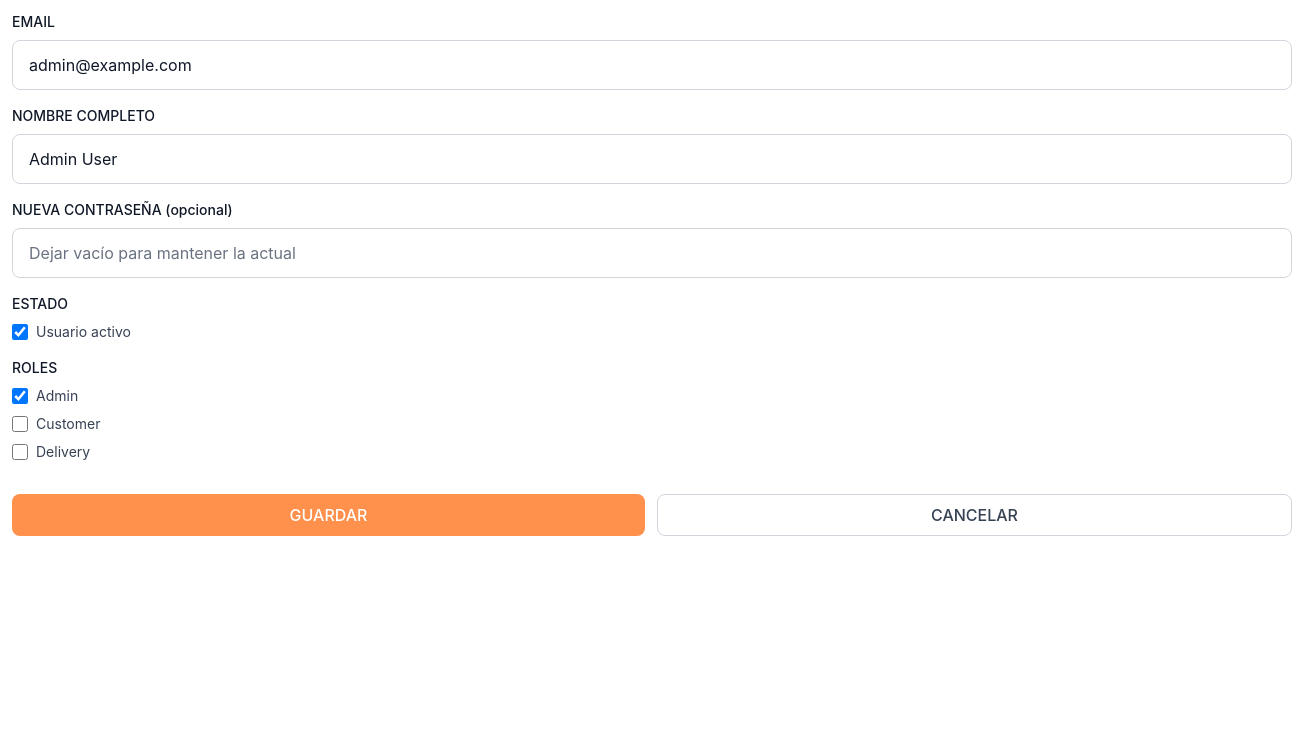
Scenario: EditUserForm › Form Validation › should show validation error for short password
The image size is (1304, 732).
In the password field with placeholder "Dejar vacío para mantener la actual": x=652, y=253 [12,228,1292,278], type "123"
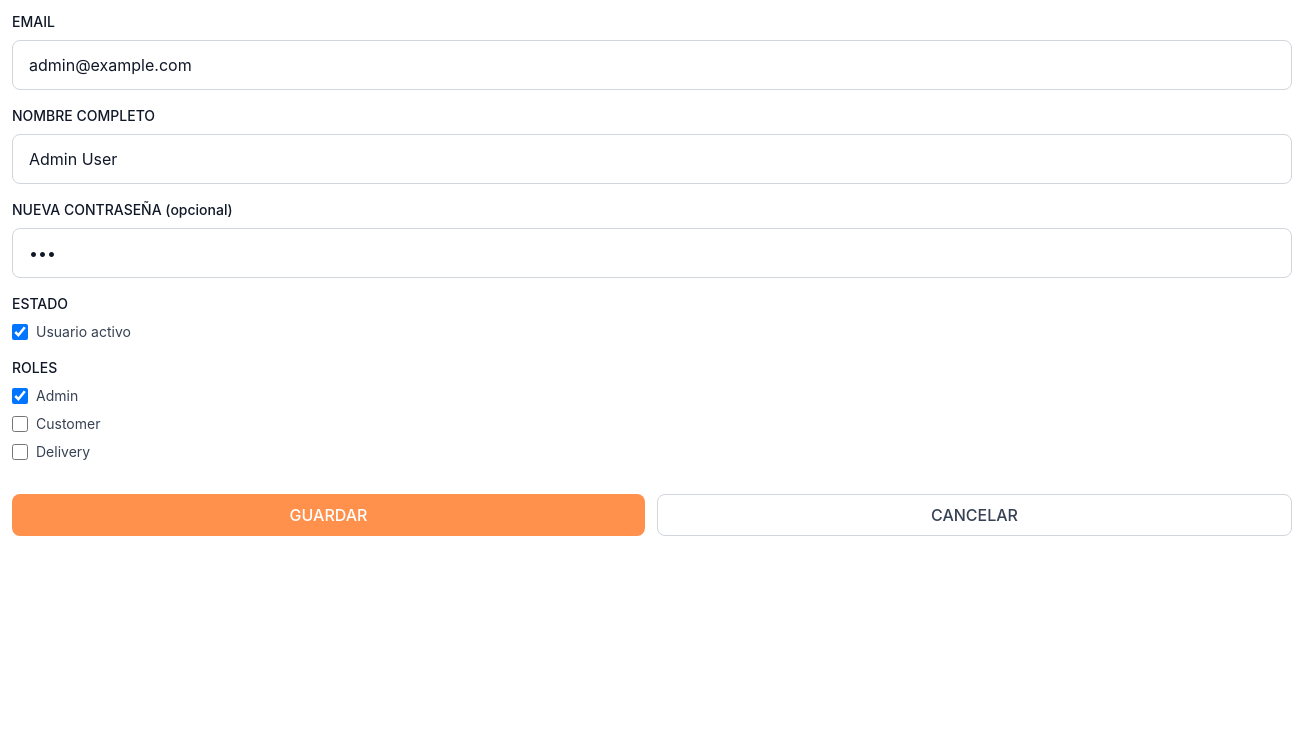
Click the button "GUARDAR": x=328, y=515 [12,494,645,536]
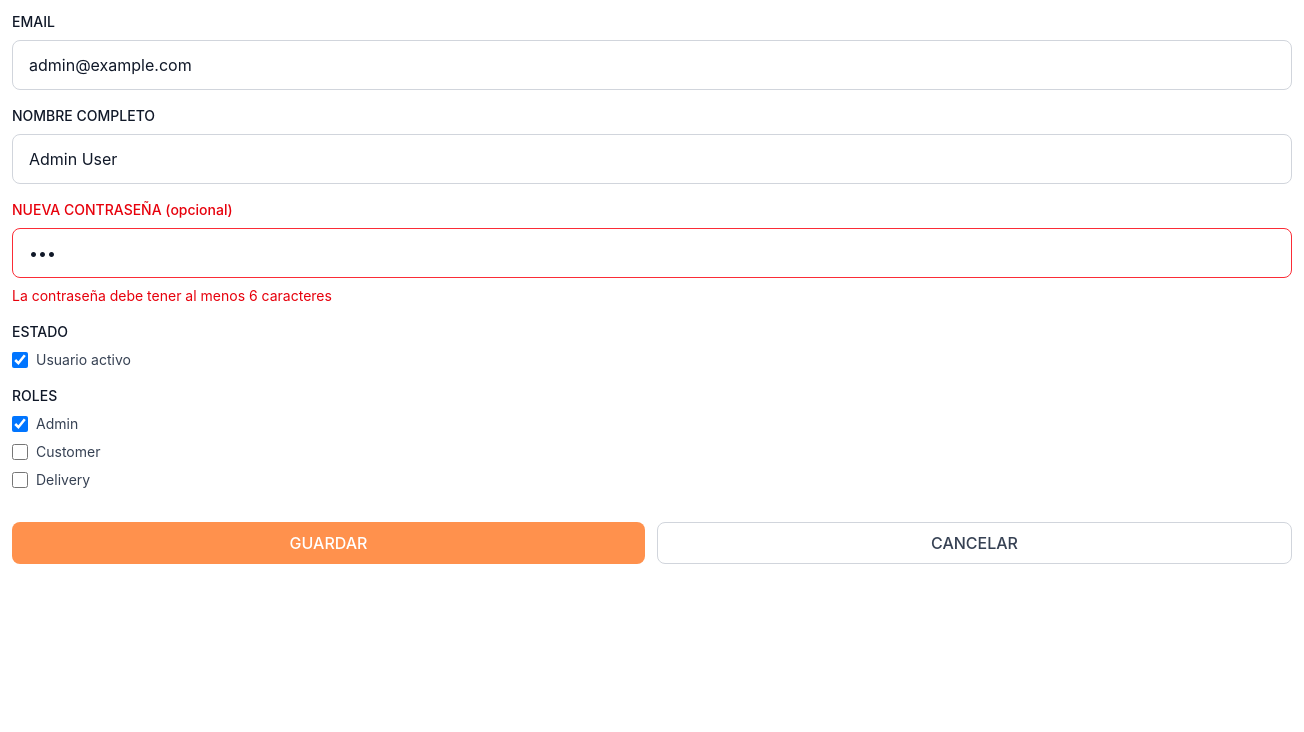
Expected: the text "La contraseña debe tener al menos 6 caracteres" is shown, [12,287,332,304]
